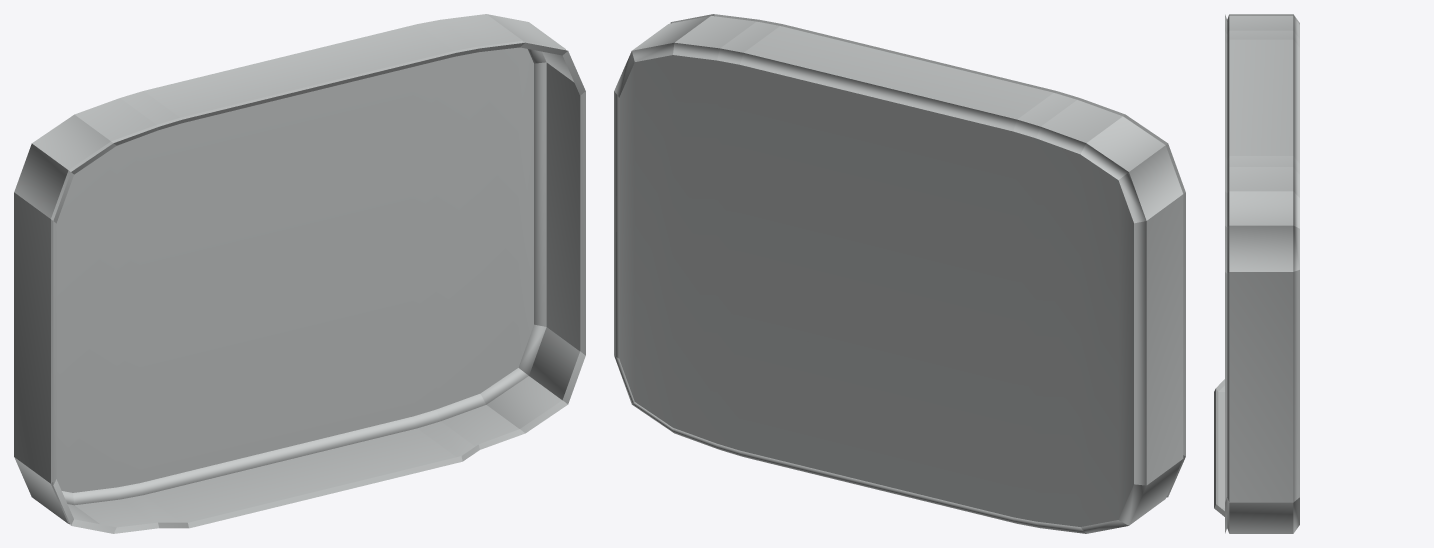
Rendered from MeshBin_10_0_GeomSubset_1.obj.
The picture shows the model from 3 angles, left to right: view 1: azimuth 30°, elevation 25°; view 2: azimuth 150°, elevation 25°; view 3: azimuth 270°, elevation 25°; orthographic projection. The views are drawn at different scales.
Visible parts, largest first — view 1: MeshBin_10_0_GeomSubset_1; view 2: MeshBin_10_0_GeomSubset_1; view 3: MeshBin_10_0_GeomSubset_1.
Boxes of the visible parts, x1,y1,x2,y2 form: MeshBin_10_0_GeomSubset_1: (14, 14, 585, 533); MeshBin_10_0_GeomSubset_1: (614, 14, 1185, 533); MeshBin_10_0_GeomSubset_1: (1214, 14, 1299, 533).
Bounding box in the file's own units: 0.4464 × 0.3239 × 0.1715.
